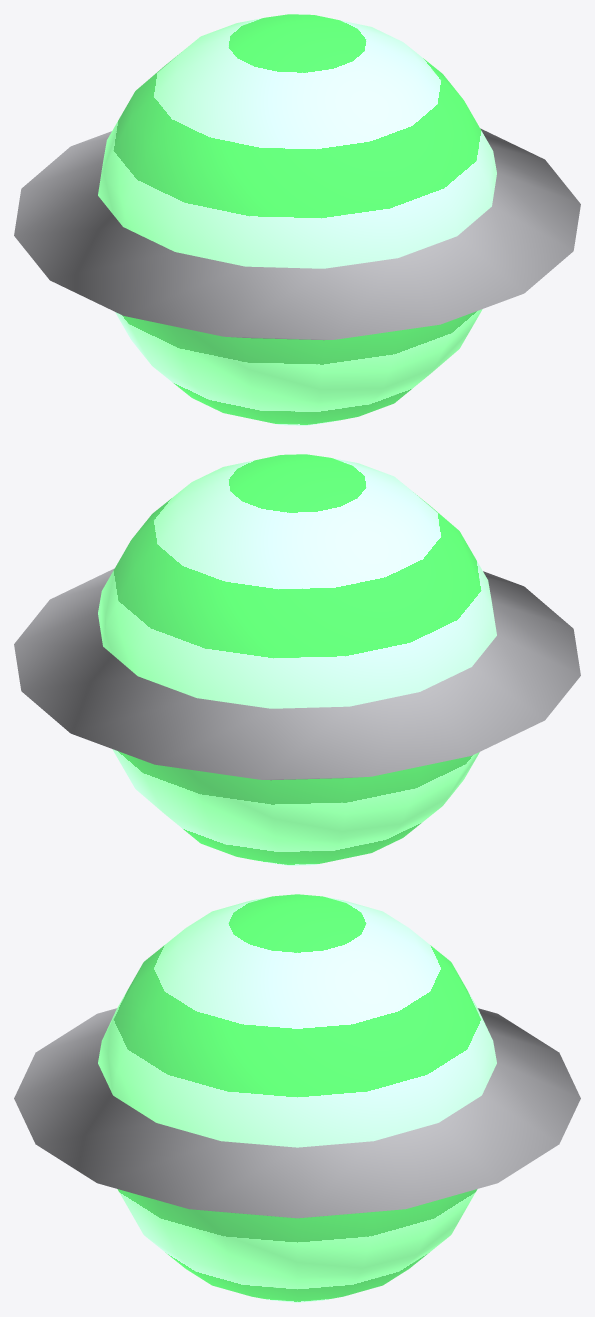
The model's file is item_health.glb.
3 views of the same model, one above another, from view 1: azimuth 30°, elevation 25°; view 2: azimuth 150°, elevation 25°; view 3: azimuth 270°, elevation 25° (orthographic).
Visible parts, largest first — view 1: item_health; view 2: item_health; view 3: item_health.
Part boxes in pixels (<box>): item_health: <box>14,14,580,425</box>; item_health: <box>14,454,580,865</box>; item_health: <box>14,894,580,1302</box>.
Size of the model in its own units: 1.24 by 0.9 by 1.24.
2 materials, 1 textured.
